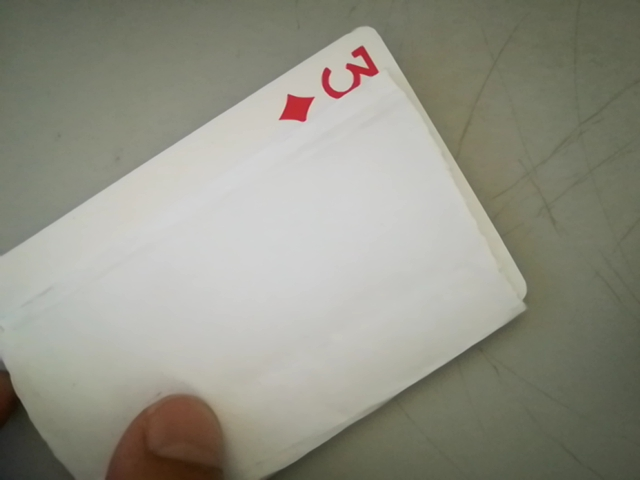fk 3: (272, 42, 388, 124)
